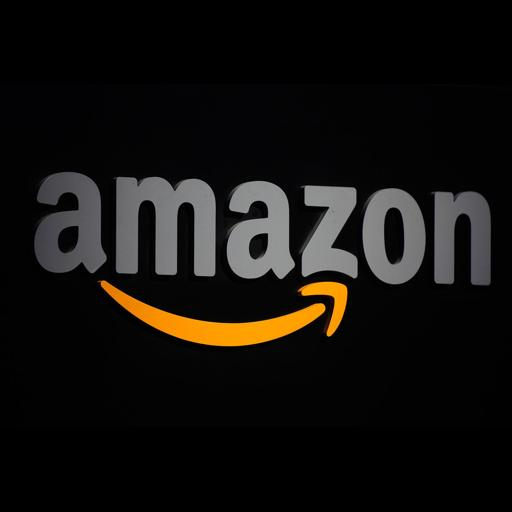Amazon: (0, 84, 512, 427)
